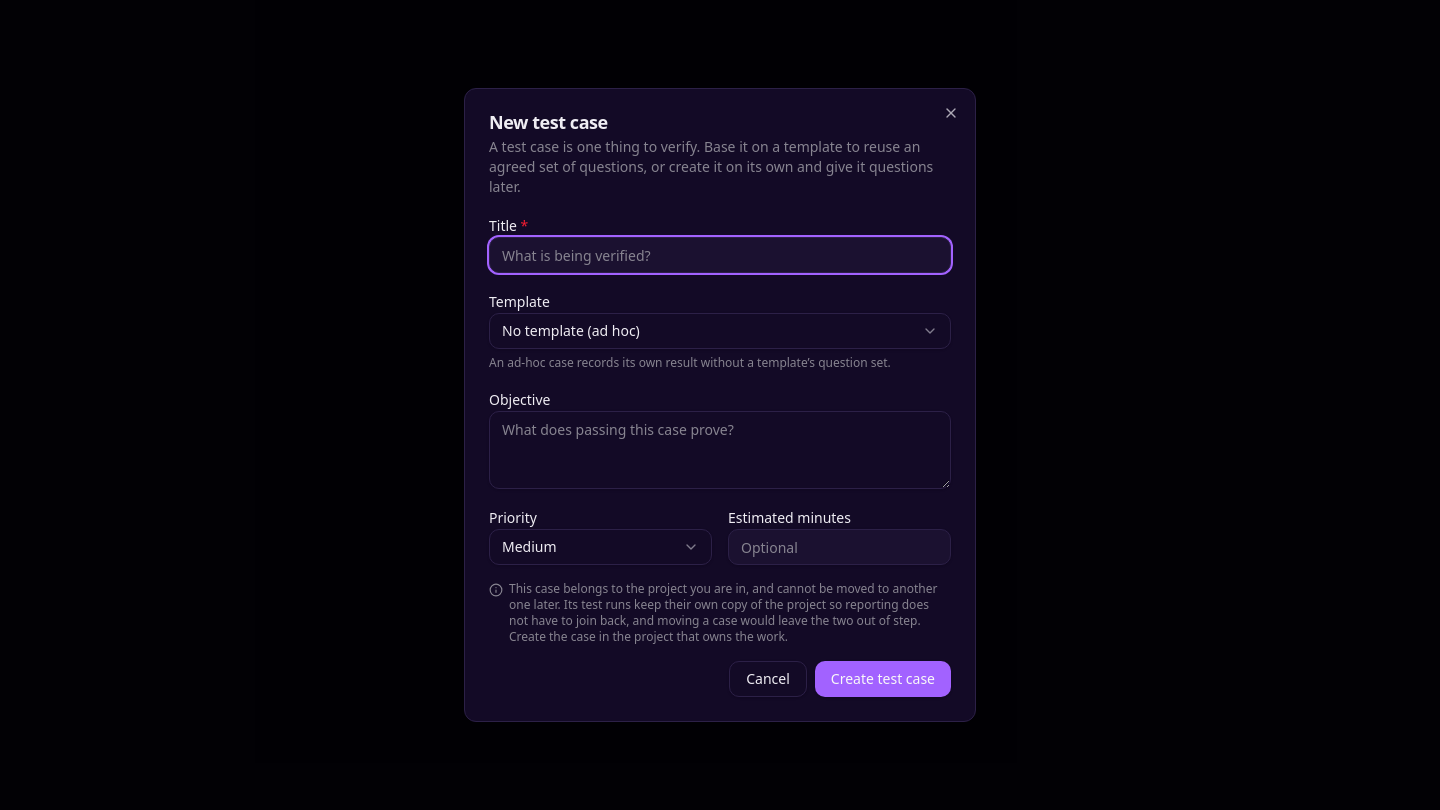
Test: two versions of one template are distinguishable (finding 41) › shows the version beside the name on every option
Click the dropdown labelled "No template (ad hoc)". click: click(571, 330)
box: [489, 313, 951, 349]
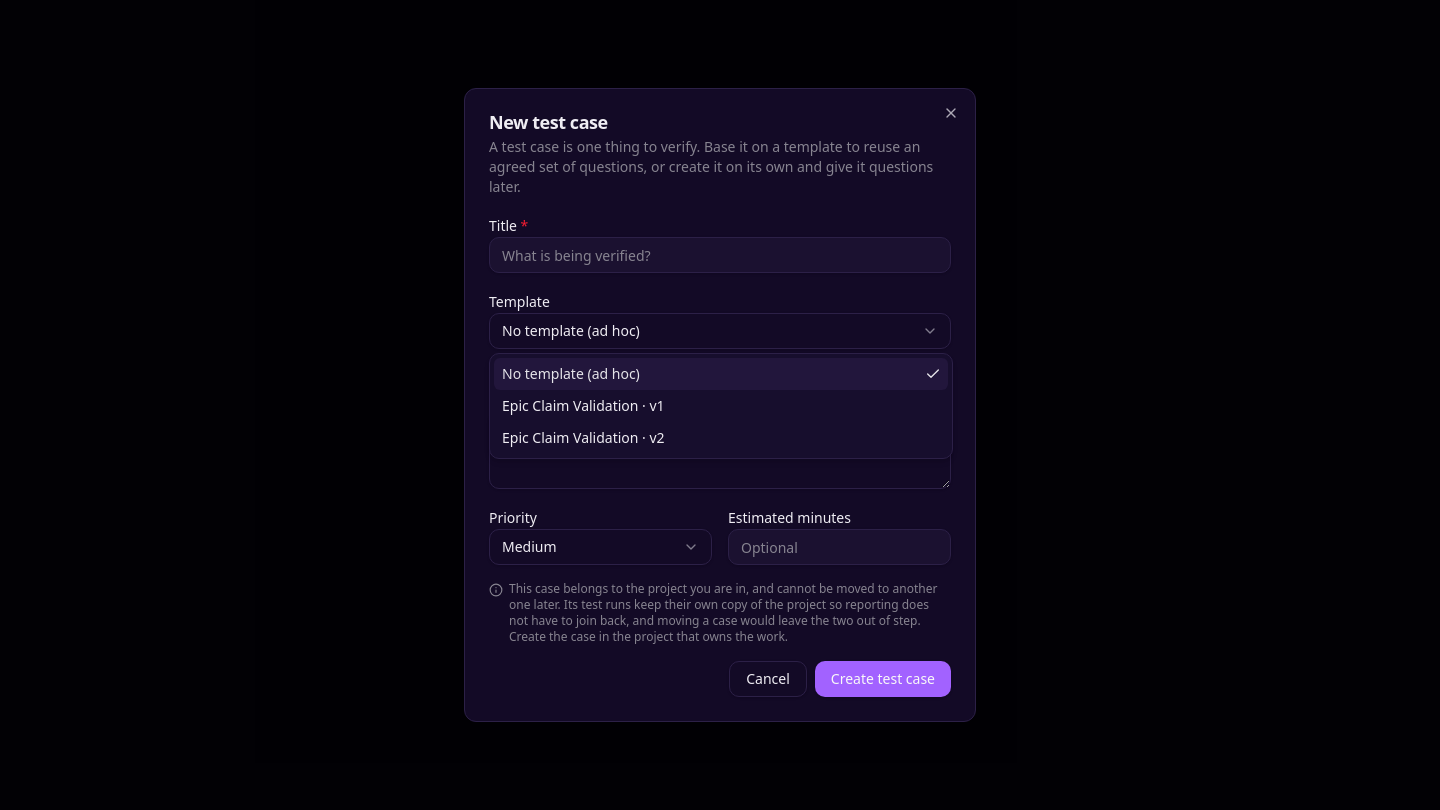
Expected: the option "Epic Claim Validation · v1" is shown, [502, 396, 665, 415]
Expected: the option "Epic Claim Validation · v2" is shown, [502, 428, 665, 447]
